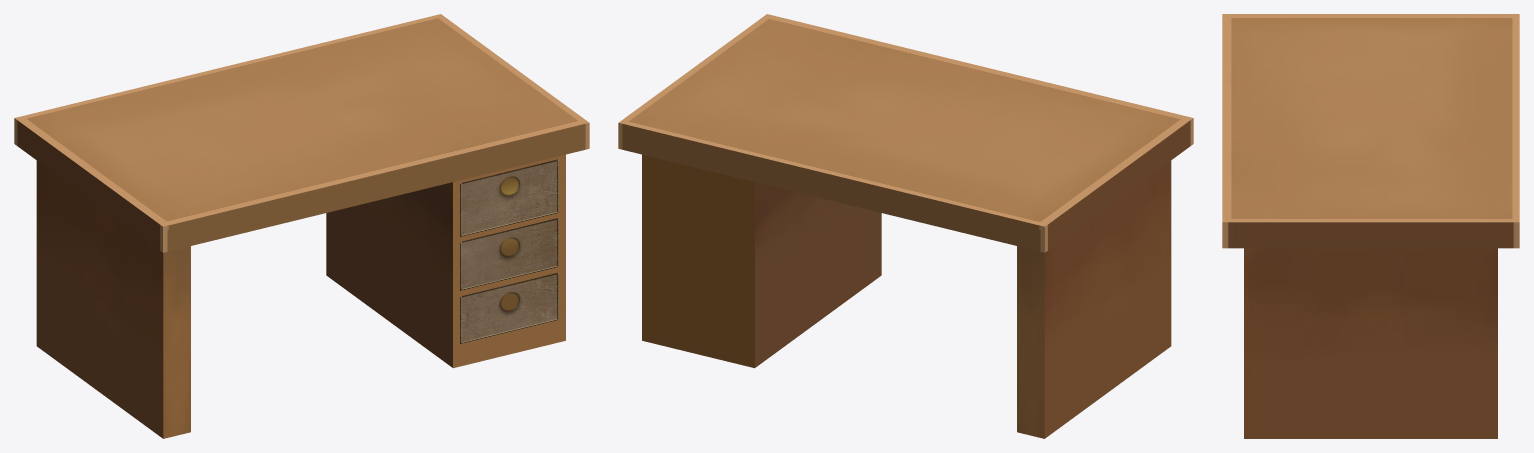
File: desk3.fbx
3 renders of one model, left to right at view 1: azimuth 30°, elevation 25°; view 2: azimuth 150°, elevation 25°; view 3: azimuth 270°, elevation 25°, orthographic.
Parts seen in each view (by area): view 1: desk3; view 2: desk3; view 3: desk3.
Boxes of the visible parts, box(x1,y1,x2,y2) form: desk3: box(14, 14, 589, 438); desk3: box(618, 14, 1193, 438); desk3: box(1222, 14, 1519, 438).
Size of the model in its own units: 9.1 by 4.55 by 5.49.
